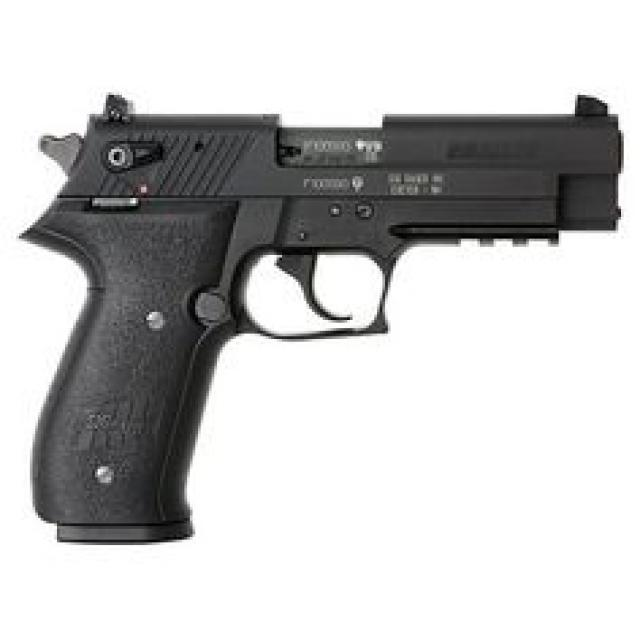semi automatic: (5, 80, 634, 562)
